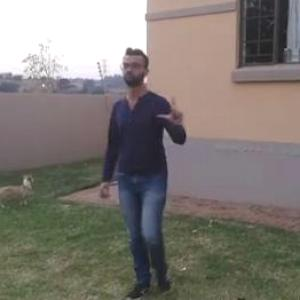land_hand: (158, 92, 192, 132)
